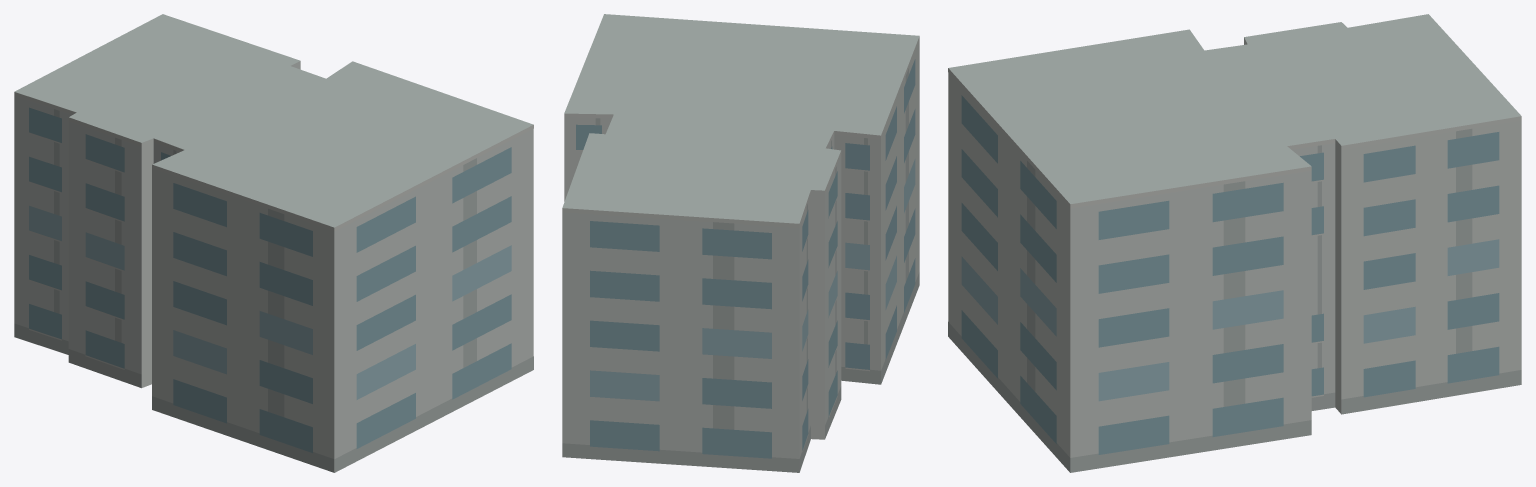
Rendered from survey-upis-32865208.glb.
3 renders of one model, left to right at view 1: azimuth 30°, elevation 25°; view 2: azimuth 150°, elevation 25°; view 3: azimuth 270°, elevation 25°, orthographic. The views are drawn at different scales.
Visible parts, largest first — view 1: survey-upis-32865208.tmp; view 2: survey-upis-32865208.tmp; view 3: survey-upis-32865208.tmp.
Boxes of the visible parts, x1=… form: survey-upis-32865208.tmp: x1=14, y1=14, x2=533, y2=472; survey-upis-32865208.tmp: x1=562, y1=14, x2=919, y2=472; survey-upis-32865208.tmp: x1=948, y1=14, x2=1521, y2=472.
Bounding box in the file's own units: 22.87 × 15.05 × 29.13.
